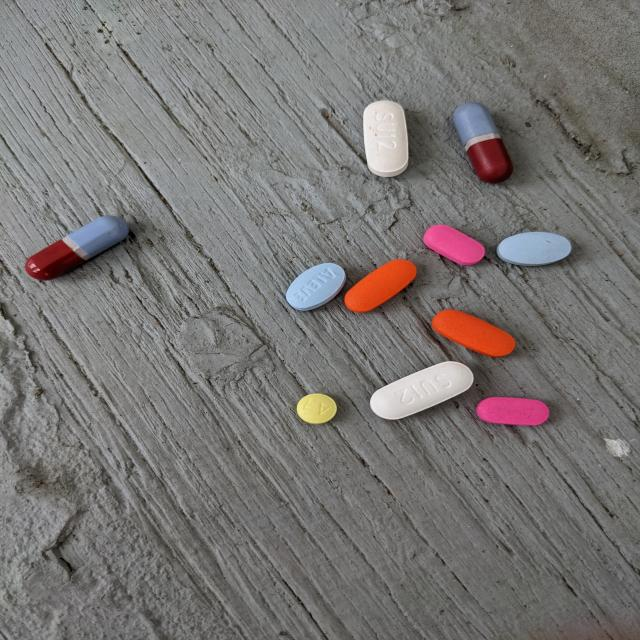non-organic waste: (24, 214, 131, 282), (369, 360, 476, 421), (451, 102, 514, 185), (431, 308, 516, 358), (343, 258, 418, 314), (362, 100, 410, 178), (285, 262, 347, 312), (495, 231, 573, 267), (422, 224, 487, 266), (474, 396, 550, 426), (296, 393, 338, 425)
